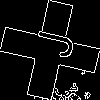J: (25, 25, 76, 60)
